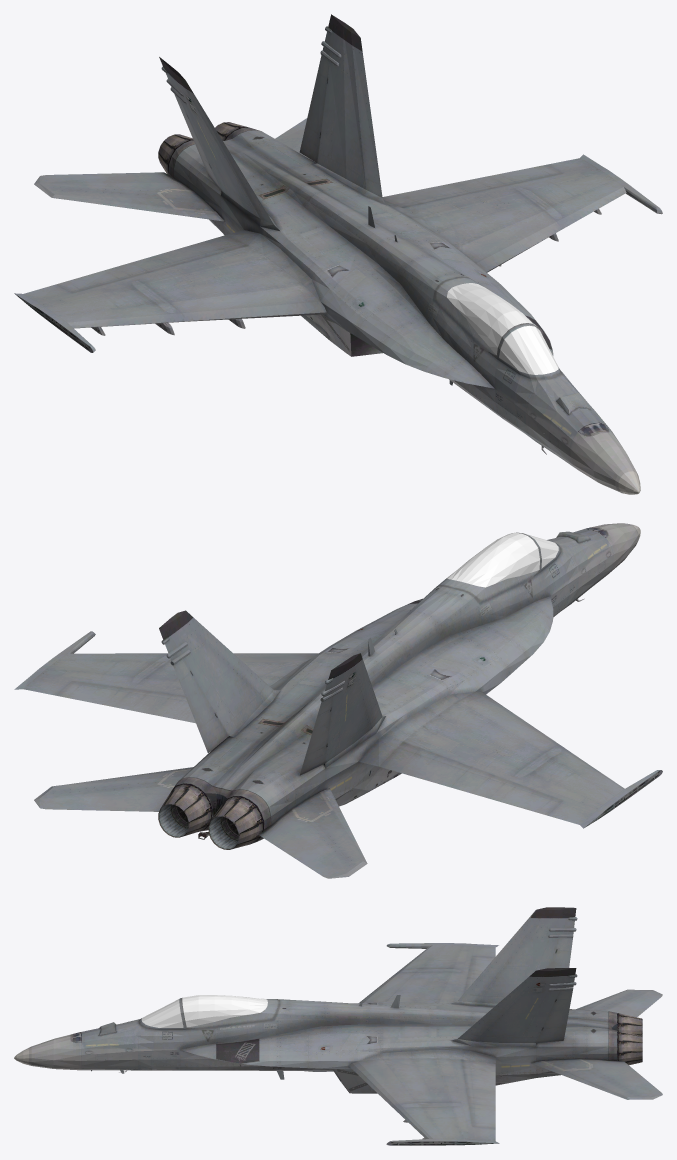
Rendered from enemy.obj.
3 views of the same model, one above another, from view 1: azimuth 30°, elevation 25°; view 2: azimuth 150°, elevation 25°; view 3: azimuth 270°, elevation 25° (orthographic). The views are drawn at different scales.
Bounding box in the file's own units: 13.57 × 4.54 × 18.77.
2 materials, 1 textured.
